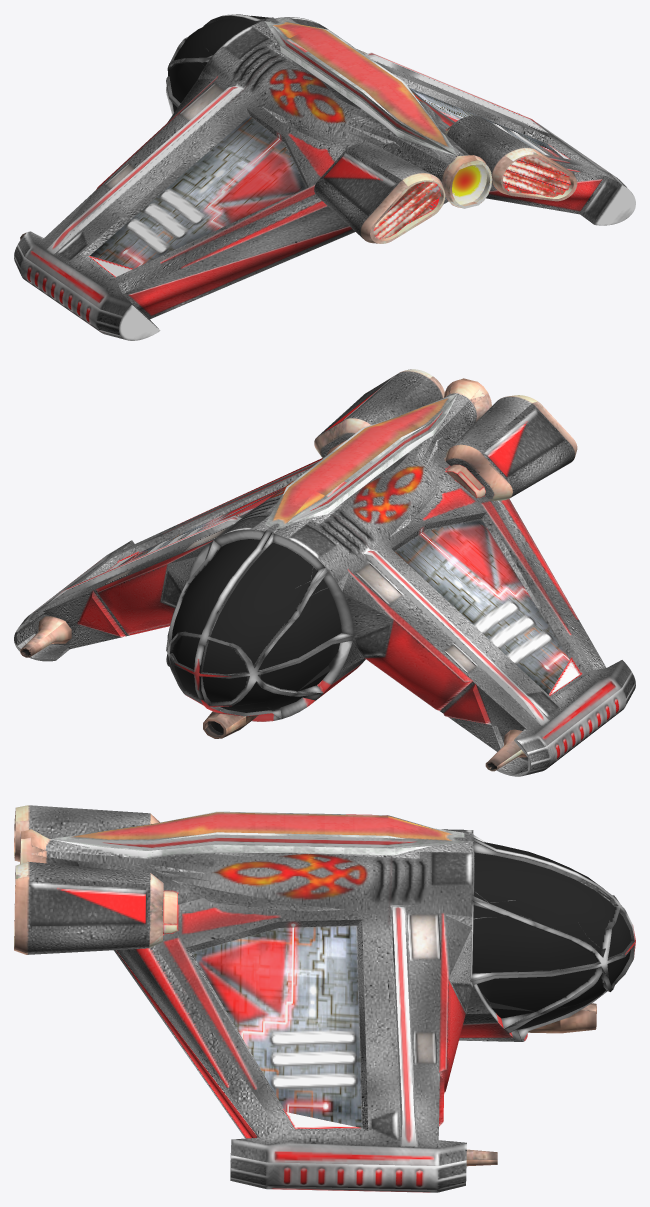
The model's file is ship2.fbx.
3 renders of one model, top to bottom at view 1: azimuth 30°, elevation 25°; view 2: azimuth 150°, elevation 25°; view 3: azimuth 270°, elevation 25°, orthographic. The views are drawn at different scales.
Visible parts, largest first — view 1: polySurface5; view 2: polySurface5; view 3: polySurface5.
Part boxes in pixels (box(x1,y1,x2,y2)): polySurface5: box(14, 14, 635, 340); polySurface5: box(14, 369, 635, 776); polySurface5: box(14, 805, 635, 1192).
Bounding box in the file's own units: 42.95 × 38.84 × 16.26.
1 material, 1 textured.
